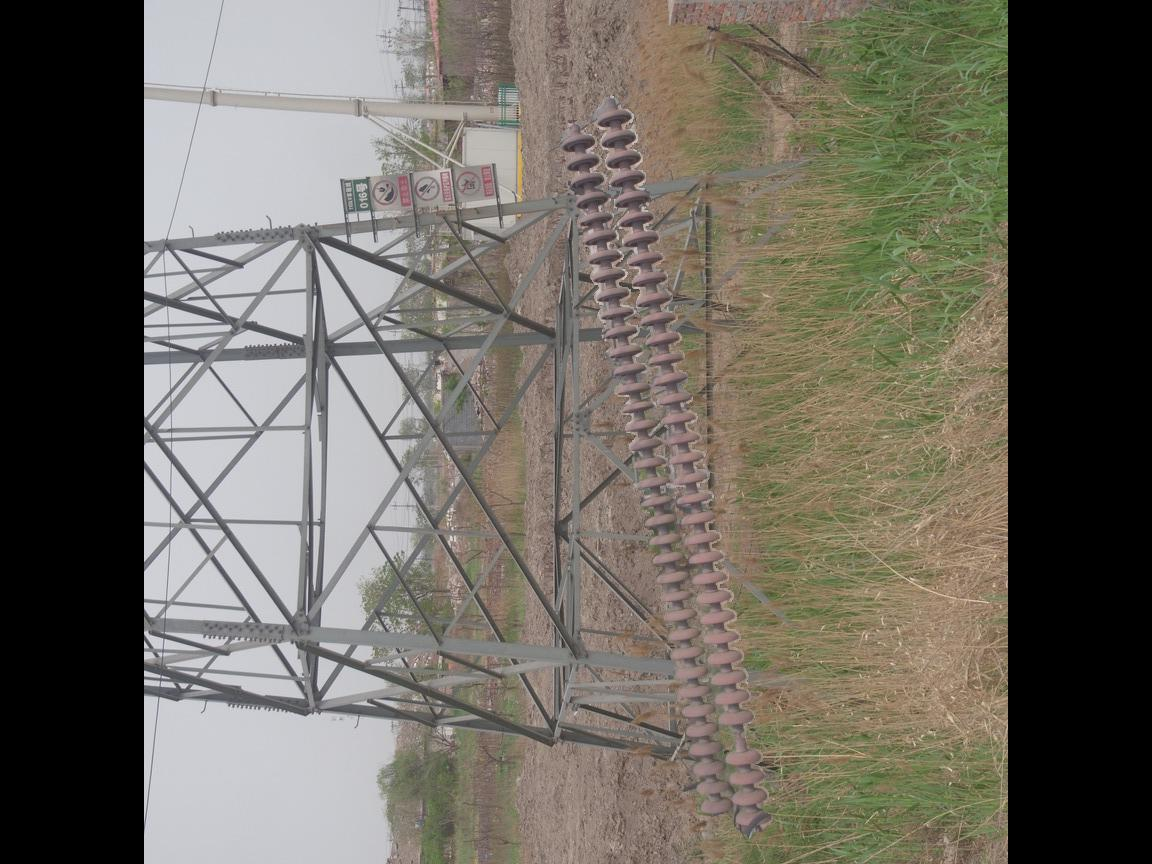insulator: (558, 102, 778, 839)
insulator_stringdrop: (716, 708, 765, 771)
